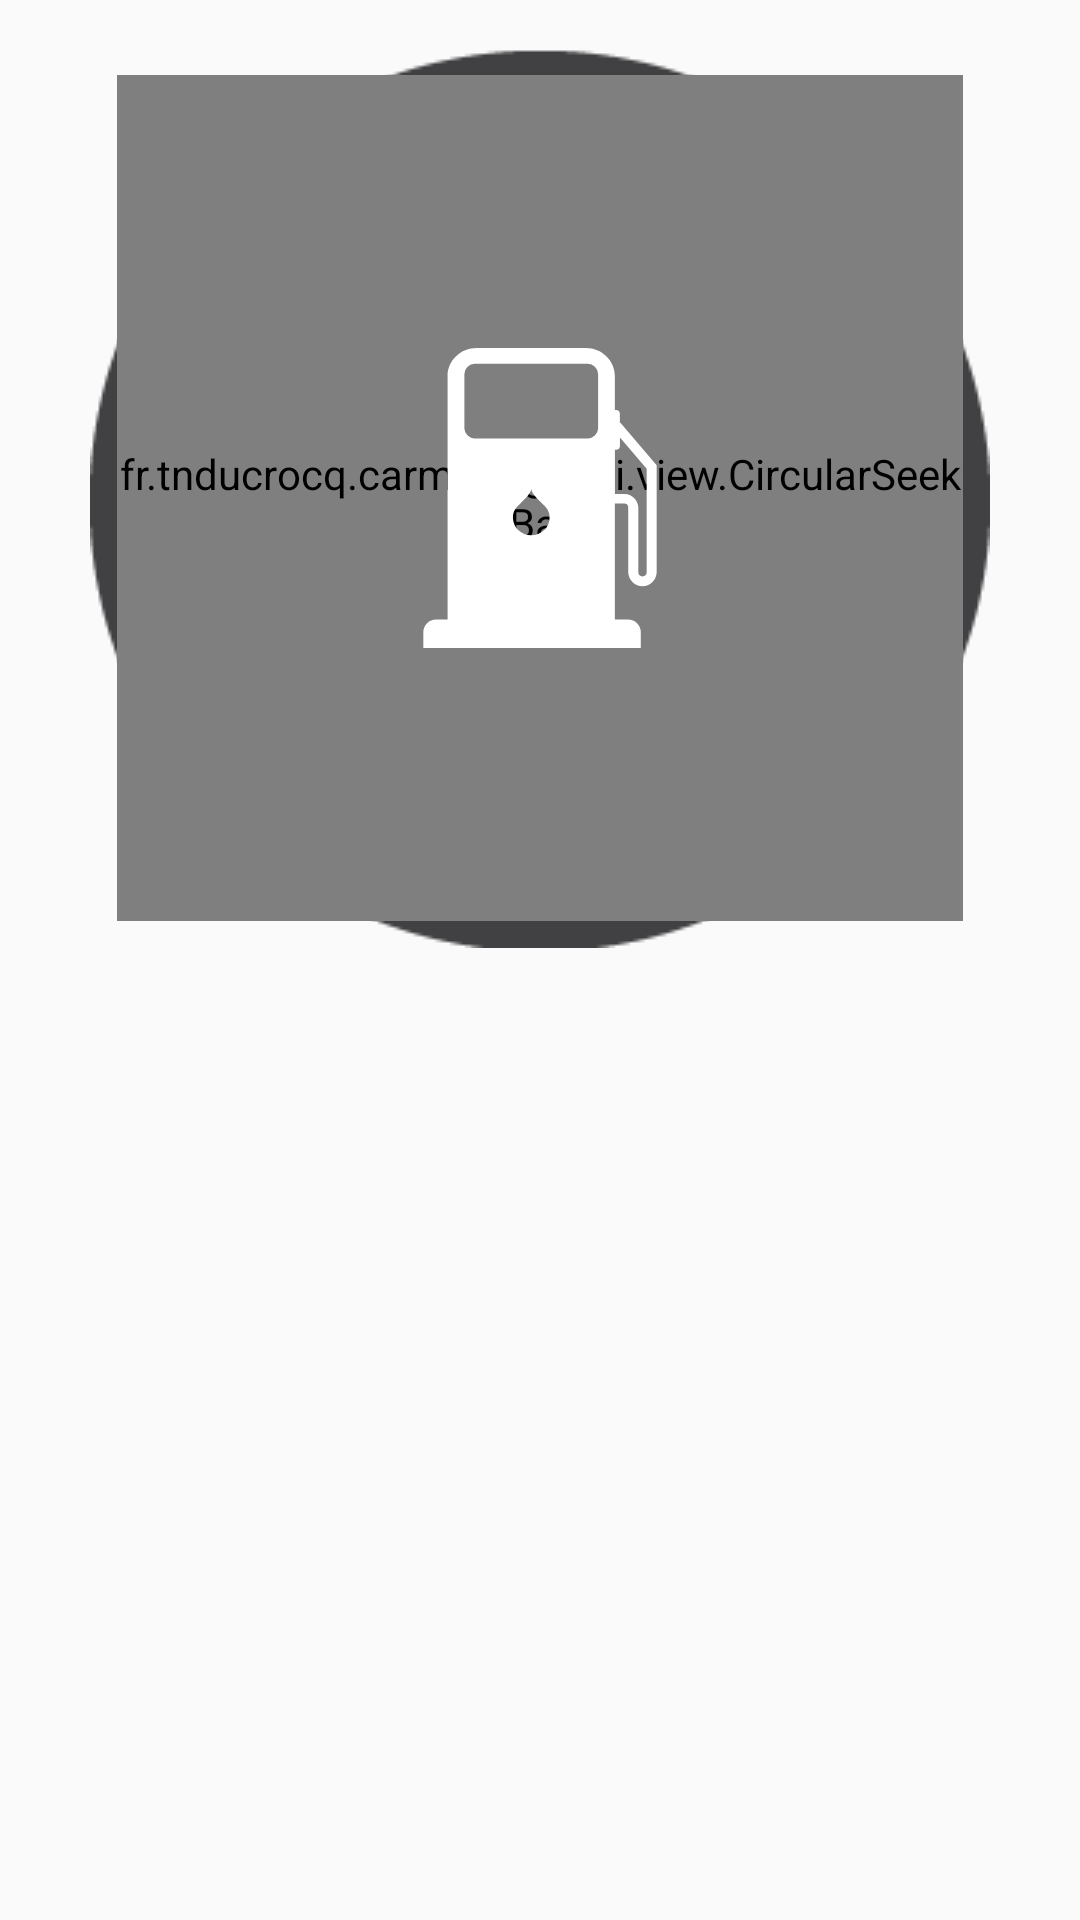

Locate icon controls on the screen. Image size 1080*1920, boxes as (x1, y1, x2, y2).
station fuel: (406, 348, 687, 648)
